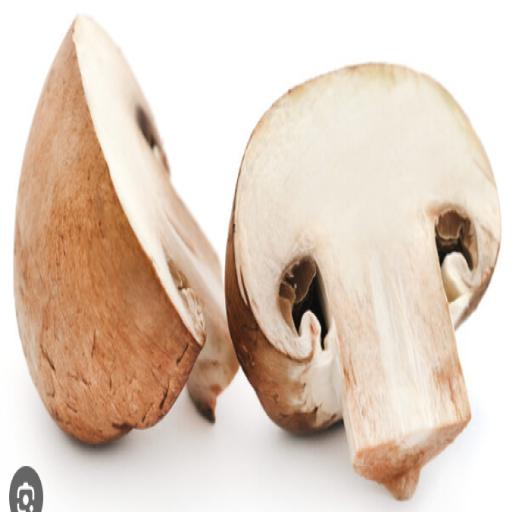Button Mushroom: (211, 55, 512, 512), (8, 6, 242, 465)
